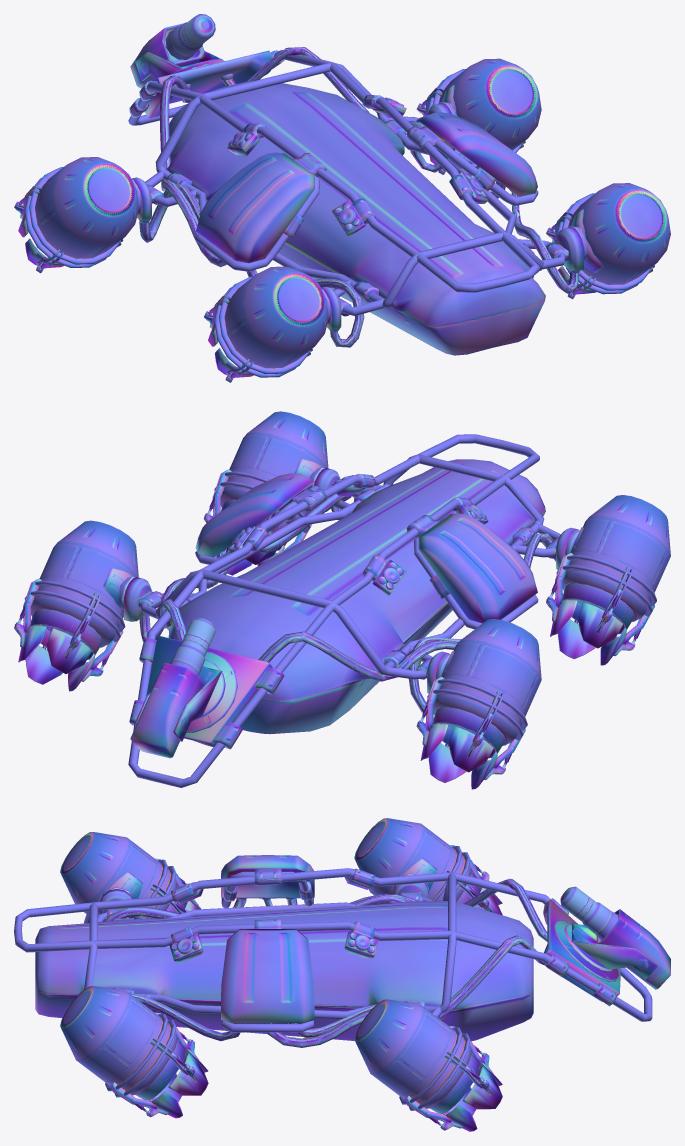
Rendered from sae_shuttle.obj.
3 views of the same model, one above another, from view 1: azimuth 30°, elevation 25°; view 2: azimuth 150°, elevation 25°; view 3: azimuth 270°, elevation 25° (orthographic). The views are drawn at different scales.
Parts seen in each view (by area): view 1: Cube.023_Cube.053; view 2: Cube.023_Cube.053; view 3: Cube.023_Cube.053.
Part boxes in pixels (bbox=[...]): Cube.023_Cube.053: bbox=[14, 14, 670, 382]; Cube.023_Cube.053: bbox=[14, 411, 670, 789]; Cube.023_Cube.053: bbox=[14, 818, 670, 1131].
Bounding box in the file's own units: 2.45 × 0.7589 × 3.06.
